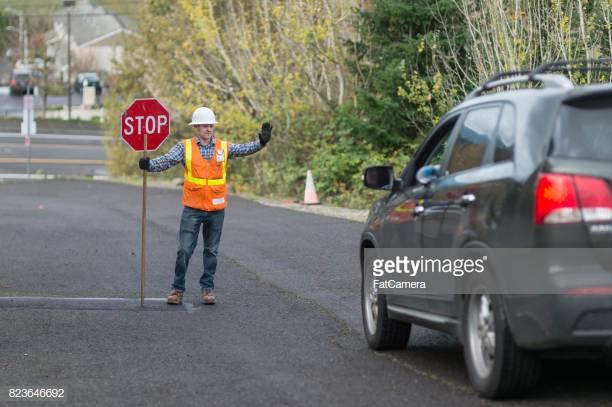Pole: (139, 170, 146, 307), (26, 146, 30, 183)
Sign: (121, 99, 170, 152)
